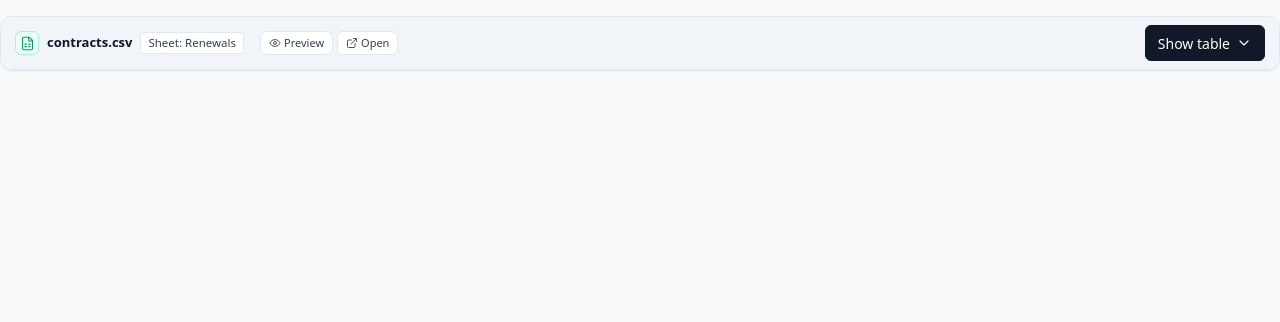
InteractiveTable › starts collapsed and keeps filter, sort, and CSV controls available when expanded
Expected: the text "contracts.csv" is shown, [47,33,132,53]
Step 1. Click the heading "Show table" → [90, 42], box [1,17,1279,70]
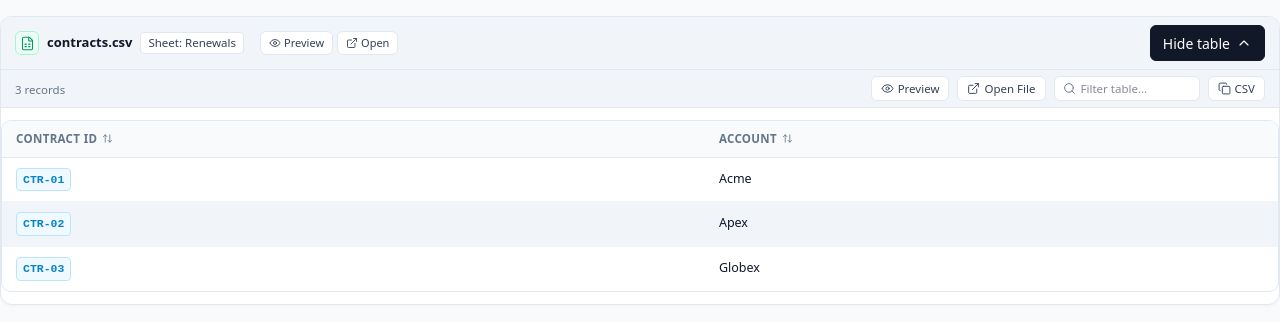
Now the field named "Filter table records" is shown, box [1080,80,1190,97]
Now the button with aria-label "Copy table as CSV" is shown, box [1208,76,1265,101]
Now the text "Acme" is shown, box [719,168,752,188]
